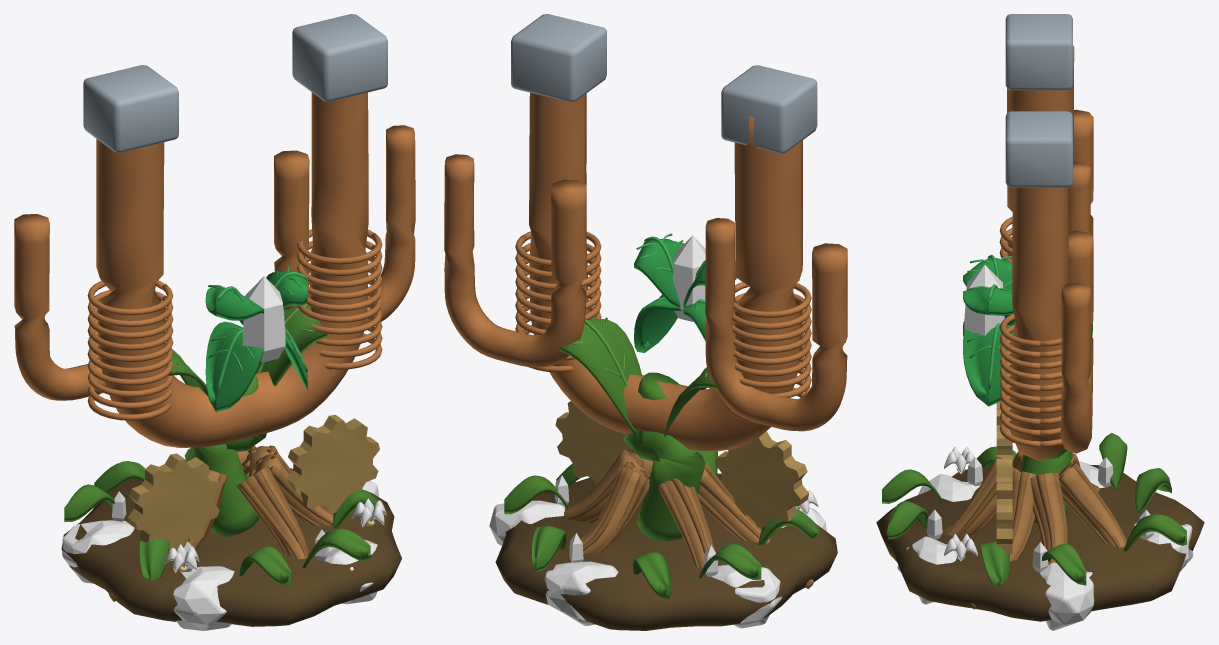
File: magnet-5.fbx
3 renders of one model, left to right at view 1: azimuth 30°, elevation 25°; view 2: azimuth 150°, elevation 25°; view 3: azimuth 270°, elevation 25°, orthographic. The views are drawn at different scales.
Visible parts, largest first — view 1: Barrel_Metal, magnet-5_Organic, Turret_Metal, Coils_Metal, Core_Metal, Clover_PortalBamboo, magnet-5_PortalBamboo, Turret_PortalBamboo, magnet-5_Bark, magnet-5_Stone, FluxHeart, magnet-5_Petal (+1 smaller); view 2: Barrel_Metal, Turret_Metal, magnet-5_Organic, Turret_PortalBamboo, magnet-5_Bark, Core_Metal, Coils_Metal, magnet-5_PortalBamboo, magnet-5_Stone, Clover_PortalBamboo, FluxHeart, magnet-5_SuperGlow; view 3: Barrel_Metal, magnet-5_Organic, Turret_Metal, magnet-5_Bark, magnet-5_PortalBamboo, Coils_Metal, magnet-5_Stone, Clover_PortalBamboo, Core_Metal, magnet-5_SuperGlow, FluxHeart, magnet-5_Petal (+1 smaller).
Boxes of the visible parts, x1,y1,x2,y2 form: Barrel_Metal: [83, 14, 387, 447]; magnet-5_Organic: [61, 468, 401, 626]; Turret_Metal: [14, 125, 415, 400]; Coils_Metal: [87, 229, 382, 420]; Core_Metal: [127, 414, 379, 550]; Clover_PortalBamboo: [205, 266, 307, 412]; magnet-5_PortalBamboo: [64, 461, 377, 585]; Turret_PortalBamboo: [164, 304, 327, 536]; magnet-5_Bark: [108, 445, 344, 601]; magnet-5_Stone: [62, 481, 378, 630]; FluxHeart: [242, 276, 285, 361]; magnet-5_Petal: [164, 498, 386, 572]; Barrel_Metal: [511, 14, 817, 451]; Turret_Metal: [444, 154, 847, 431]; magnet-5_Organic: [495, 473, 837, 630]; Turret_PortalBamboo: [560, 317, 717, 541]; magnet-5_Bark: [564, 449, 813, 588]; Core_Metal: [555, 401, 808, 527]; Coils_Metal: [515, 231, 811, 422]; magnet-5_PortalBamboo: [504, 450, 818, 600]; magnet-5_Stone: [489, 500, 826, 628]; Clover_PortalBamboo: [634, 233, 736, 352]; FluxHeart: [672, 235, 705, 321]; magnet-5_SuperGlow: [554, 475, 718, 576]; Barrel_Metal: [1005, 14, 1074, 461]; magnet-5_Organic: [876, 465, 1204, 621]; Turret_Metal: [1060, 109, 1093, 453]; magnet-5_Bark: [944, 451, 1126, 609]; magnet-5_PortalBamboo: [882, 433, 1186, 586]; Coils_Metal: [999, 216, 1062, 447]; magnet-5_Stone: [897, 461, 1193, 630]; Clover_PortalBamboo: [963, 254, 1015, 406]; Core_Metal: [996, 401, 1012, 554]; magnet-5_SuperGlow: [927, 457, 1153, 572]; FluxHeart: [964, 265, 1004, 336]; magnet-5_Petal: [944, 446, 977, 561].
Size of the model in its own units: 110 by 138 by 82.7.
